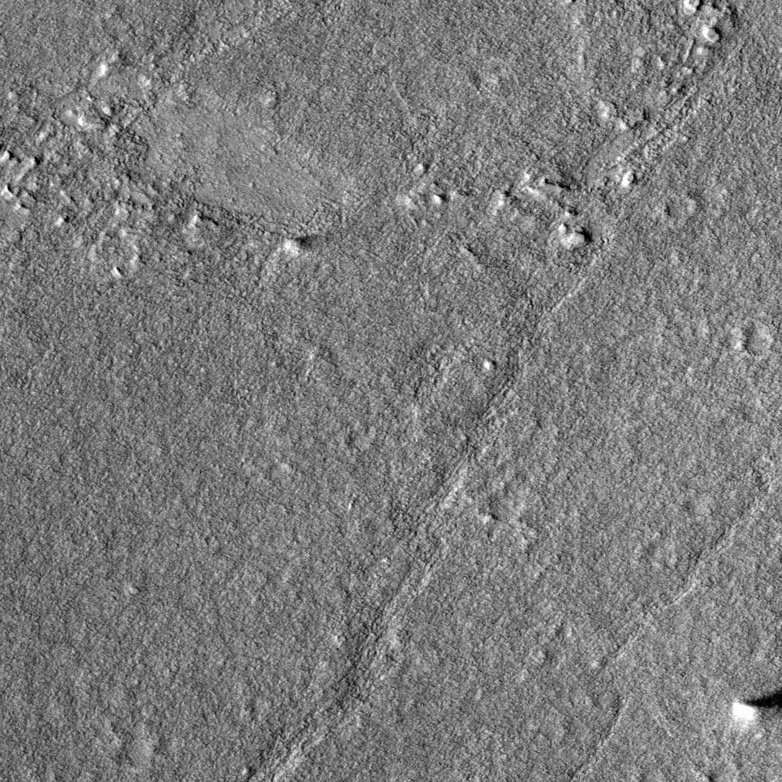dust_devil: (728, 684, 782, 726), (282, 232, 321, 258)
